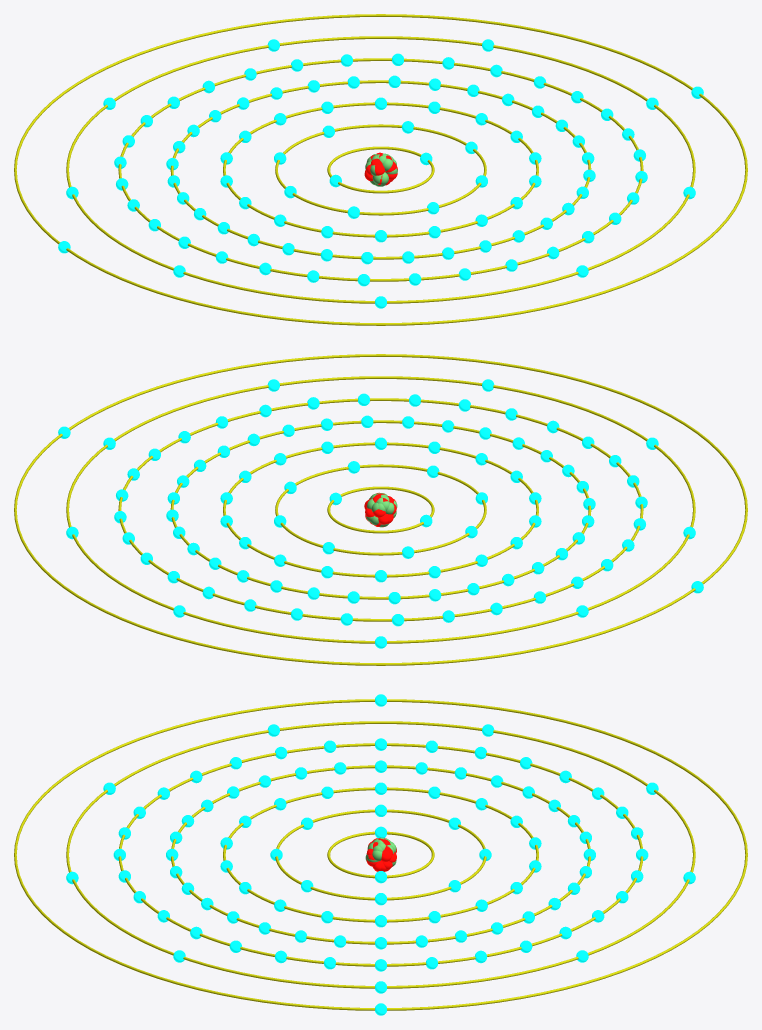
File: atomo_103.glb
The picture shows the model from 3 angles, top to bottom: view 1: azimuth 30°, elevation 25°; view 2: azimuth 150°, elevation 25°; view 3: azimuth 270°, elevation 25°; orthographic projection.
Visible parts, largest first — view 1: orbital_7, orbital_6, orbital_5, orbital_4, orbital_3, orbital_2, orbital_1; view 2: orbital_7, orbital_6, orbital_5, orbital_4, orbital_3, orbital_2, orbital_1; view 3: orbital_7, orbital_6, orbital_5, orbital_4, orbital_3, orbital_2, orbital_1.
Boxes of the visible parts, x1,y1,x2,y2 form: orbital_7: (14, 14, 747, 325); orbital_6: (66, 36, 695, 303); orbital_5: (118, 58, 643, 281); orbital_4: (170, 80, 591, 259); orbital_3: (223, 102, 538, 237); orbital_2: (275, 124, 486, 215); orbital_1: (327, 146, 434, 193); orbital_7: (14, 354, 747, 665); orbital_6: (66, 376, 695, 643); orbital_5: (118, 398, 643, 621); orbital_4: (170, 420, 591, 599); orbital_3: (223, 442, 538, 577); orbital_2: (275, 464, 486, 555); orbital_1: (327, 486, 434, 533); orbital_7: (14, 699, 747, 1010); orbital_6: (66, 721, 695, 988); orbital_5: (118, 743, 643, 966); orbital_4: (171, 765, 590, 944); orbital_3: (223, 787, 538, 922); orbital_2: (275, 809, 486, 900); orbital_1: (327, 831, 434, 878).
Size of the model in its own units: 21.36 by 0.9981 by 21.08.
